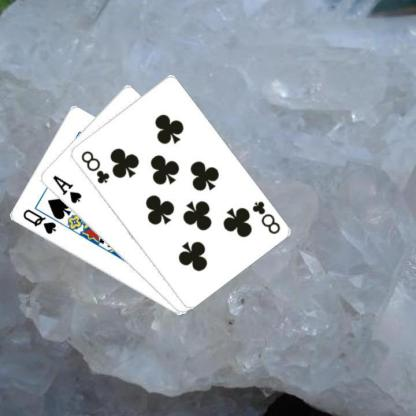8C: (249, 198, 281, 236), (78, 148, 110, 185)
AS: (50, 173, 82, 205)
QS: (20, 206, 57, 236)
